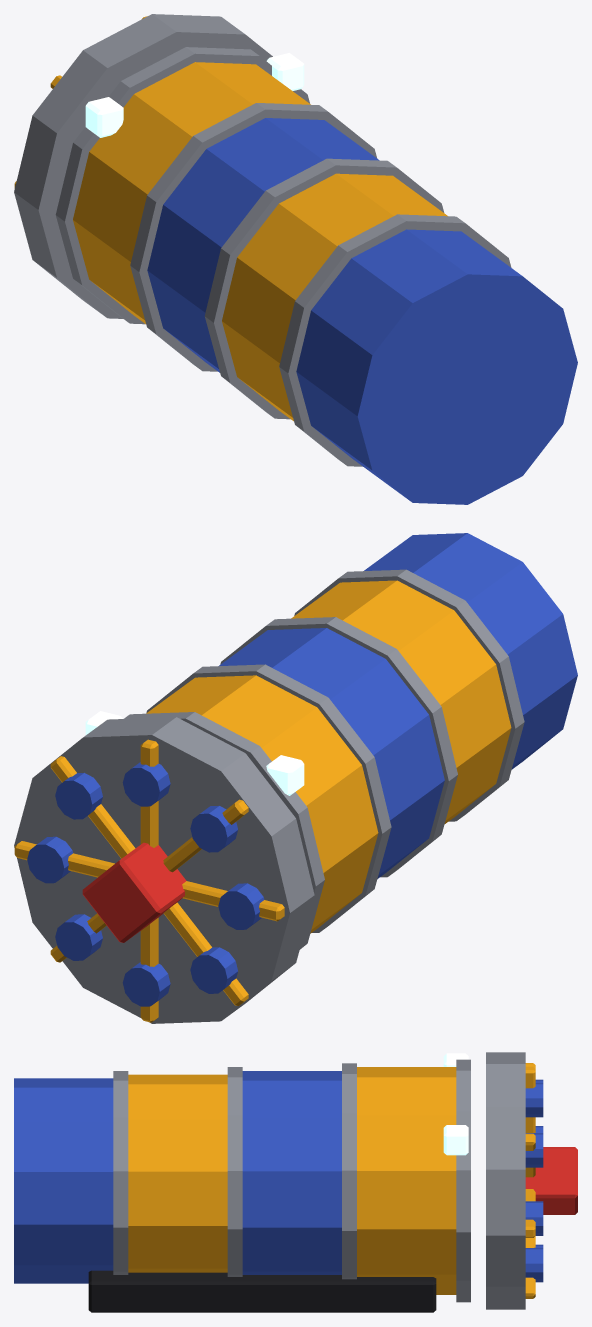
The model's file is dig_tbm.fbx.
3 renders of one model, top to bottom at view 1: azimuth 30°, elevation 25°; view 2: azimuth 150°, elevation 25°; view 3: azimuth 270°, elevation 25°, orthographic. The views are drawn at different scales.
Visible parts, largest first — view 1: Root, Head; view 2: Root, Head; view 3: Root, Head.
Boxes of the visible parts, x1,y1,x2,y2 form: Root: (55,47,577,504); Head: (14,14,272,318); Root: (85,533,577,949); Head: (14,717,314,1023); Root: (14,1053,470,1312); Head: (486,1052,577,1309).
Size of the model in its own units: 10.4 by 10.4 by 22.7.
